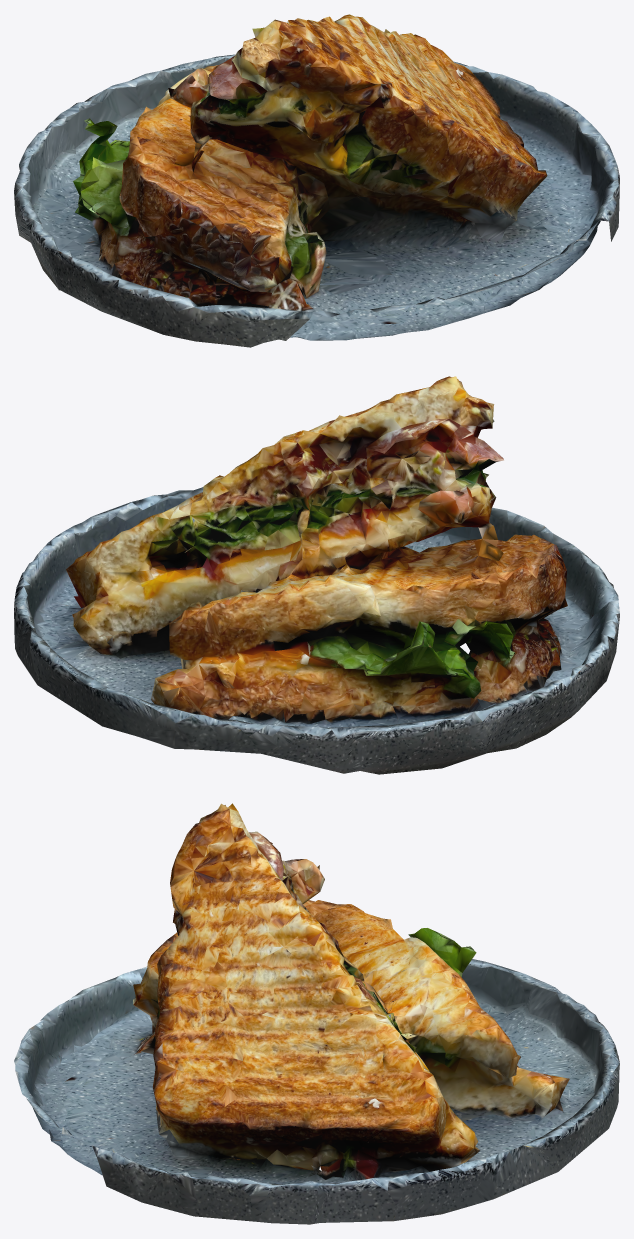
The model's file is Sandwich.glb.
The picture shows the model from 3 angles, top to bottom: view 1: azimuth 30°, elevation 25°; view 2: azimuth 150°, elevation 25°; view 3: azimuth 270°, elevation 25°; orthographic projection.
Parts seen in each view (by area): view 1: Sandwich; view 2: Sandwich; view 3: Sandwich.
Boxes of the visible parts, x1,y1,x2,y2 form: Sandwich: (14, 14, 619, 347); Sandwich: (14, 376, 619, 774); Sandwich: (14, 803, 619, 1224).
Size of the model in its own units: 0.9685 by 0.4874 by 0.9714.
1 material, 1 textured.
